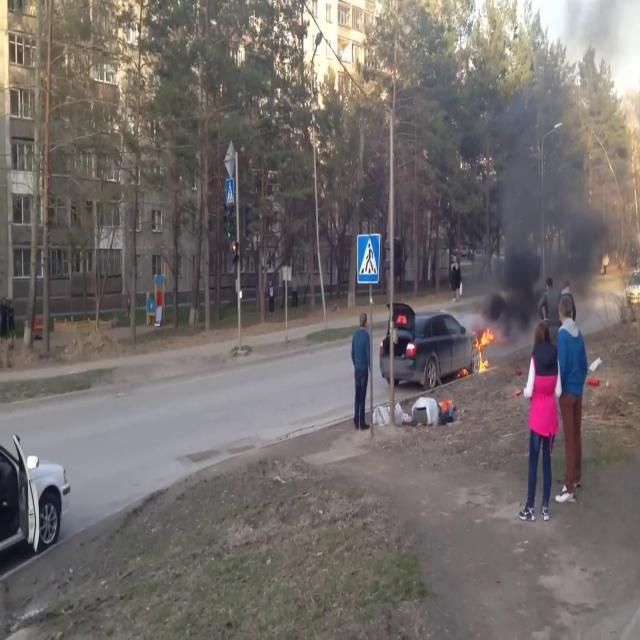Fire: (472, 321, 498, 374)
Smoke: (466, 70, 604, 332)
